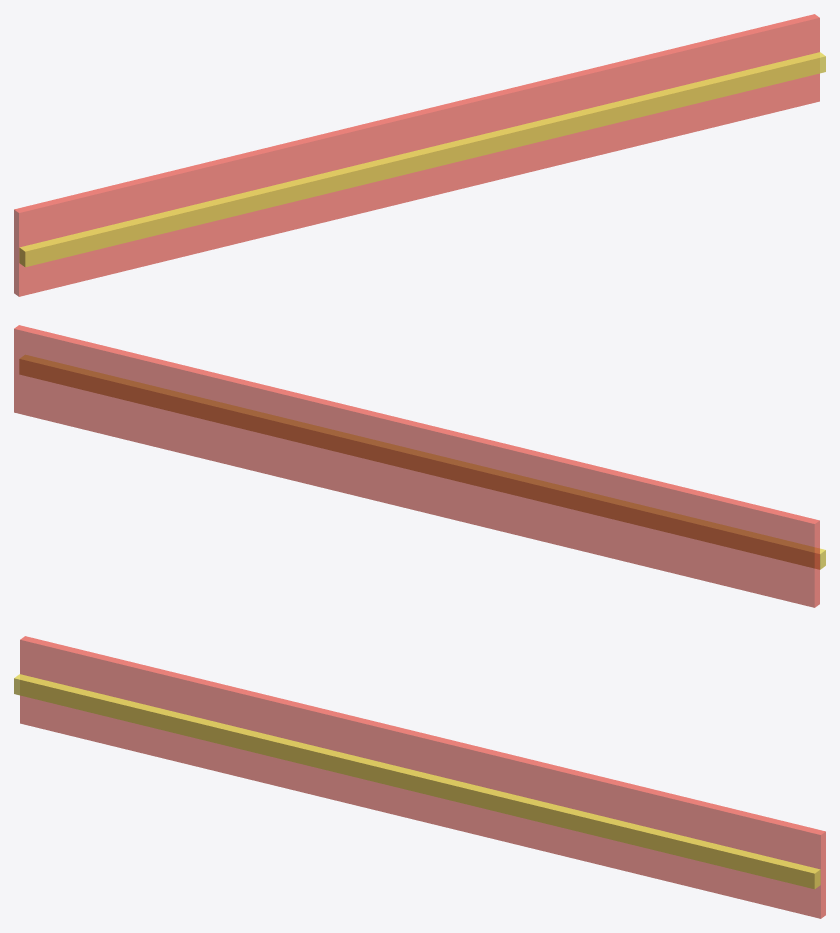
Rendered from telegraph_warning_line.glb.
3 views of the same model, one above another, from view 1: azimuth 30°, elevation 25°; view 2: azimuth 150°, elevation 25°; view 3: azimuth 330°, elevation 25° (orthographic).
Parts seen in each view (by area): view 1: line_fill, core; view 2: line_fill, core; view 3: line_fill, core.
Part boxes in pixels (left/top/right/bottom): line_fill: left=14, top=14, right=819, bottom=296; core: left=19, top=52, right=825, bottom=267; line_fill: left=14, top=325, right=819, bottom=607; core: left=19, top=355, right=825, bottom=569; line_fill: left=20, top=636, right=825, bottom=918; core: left=14, top=674, right=820, bottom=889.
Bounding box in the file's own units: 3.2 × 0.32 × 0.0775.
